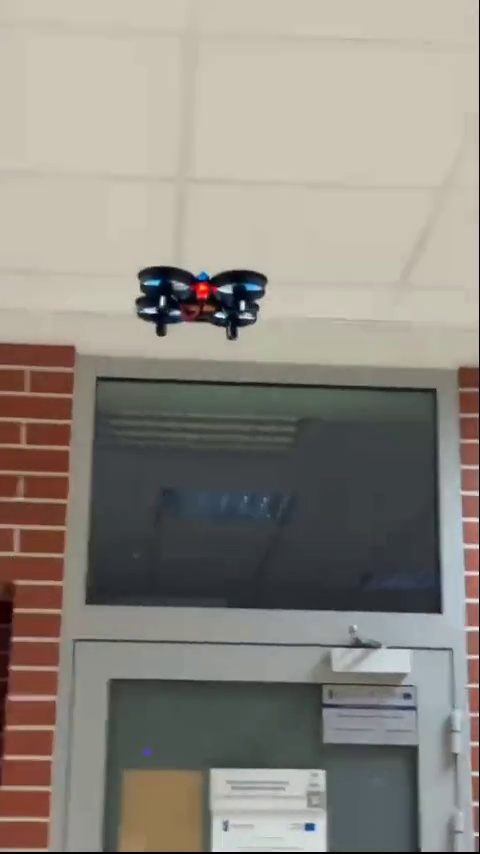drone: (136, 261, 264, 342)
